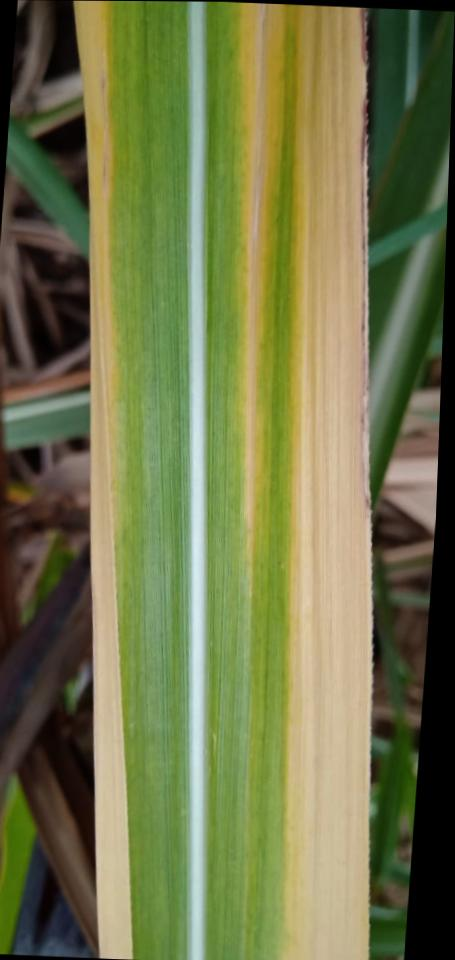Yellow: (274, 5, 370, 960), (74, 1, 132, 959), (234, 3, 285, 612)
